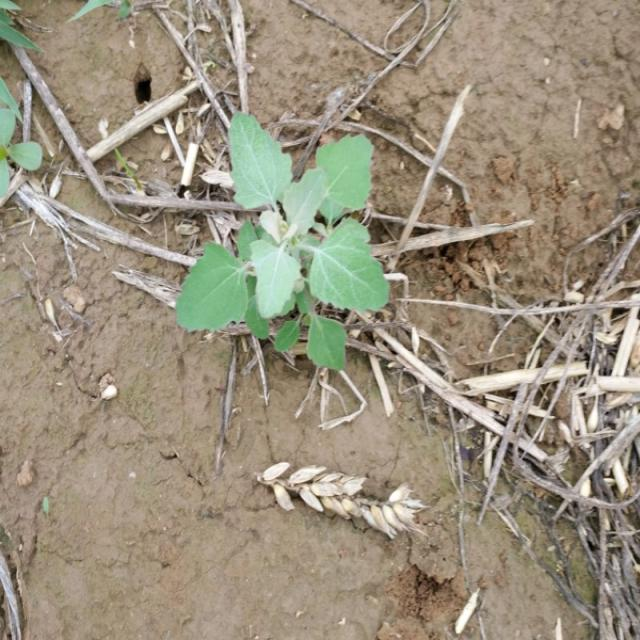goosefoots: (173, 104, 396, 390)
